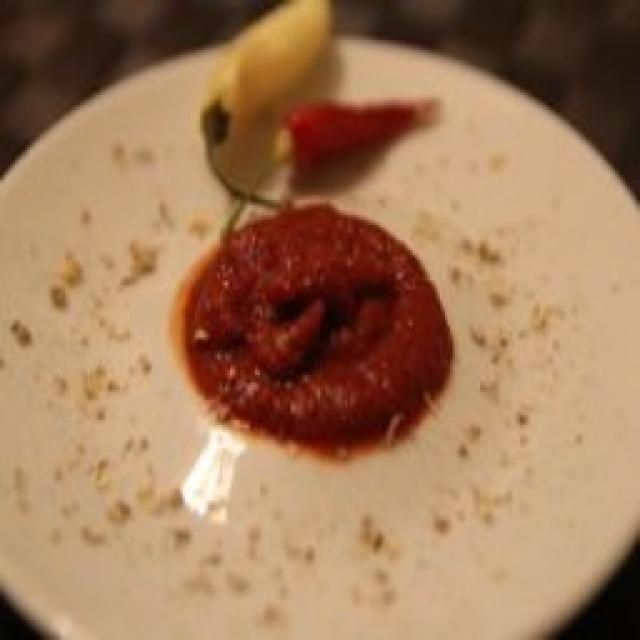Harissa: (184, 205, 451, 453)
